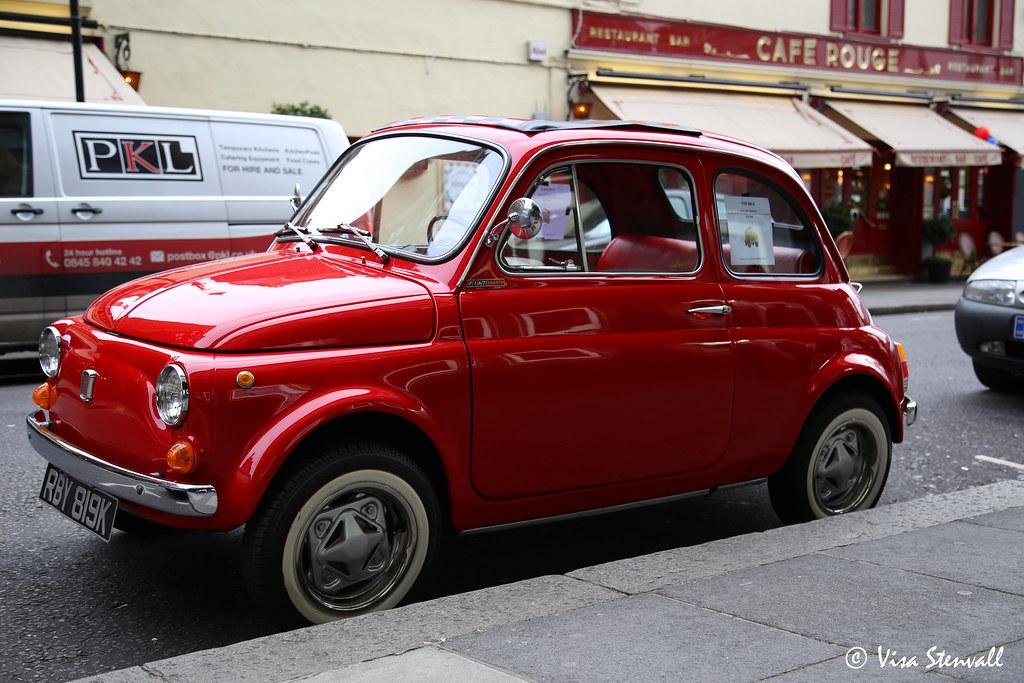car: (26, 114, 919, 627), (955, 244, 1024, 392)
